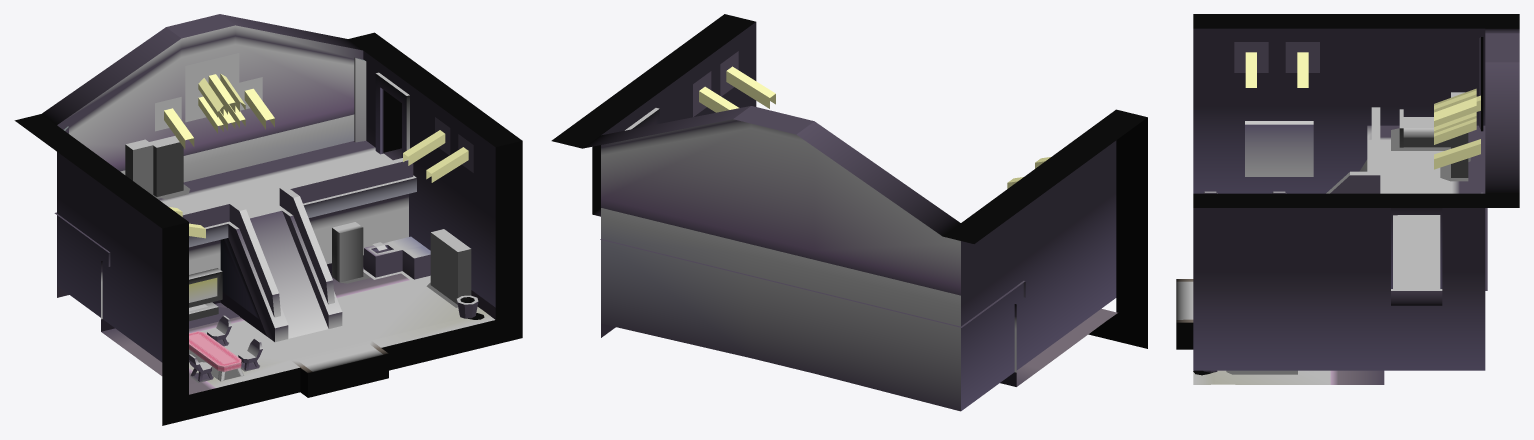
The model's file is nacrene_warehouse_interior.obj.
The picture shows the model from 3 angles, left to right: view 1: azimuth 30°, elevation 25°; view 2: azimuth 150°, elevation 25°; view 3: azimuth 270°, elevation 25°; orthographic projection. The views are drawn at different scales.
Bounding box in the file's own units: 278 × 187 × 208.
